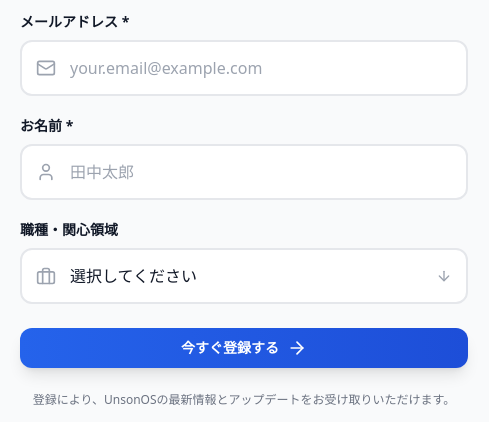
Test case: WaitlistForm Component › should disable submit button during form submission
Type "test@example.com" into the field labelled "メールアドレス *" at (244, 68), box [20,40,468,96]
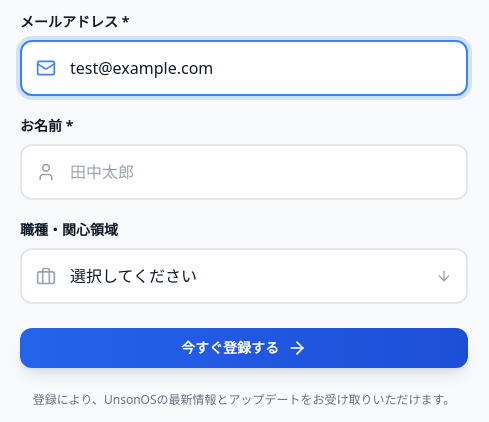
Type "テストユーザー" into the field labelled "お名前 *" at (244, 172), box [20,144,468,200]
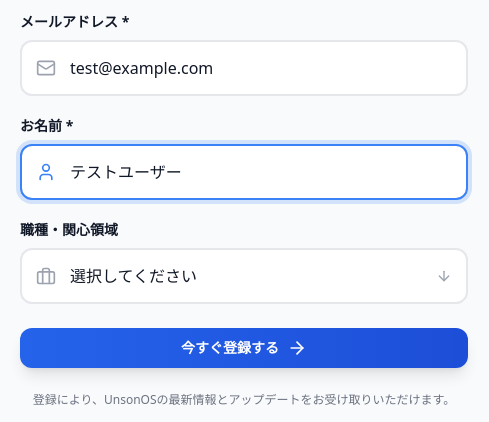
Click the button "今すぐ登録する" at (244, 348), box [20,328,468,368]
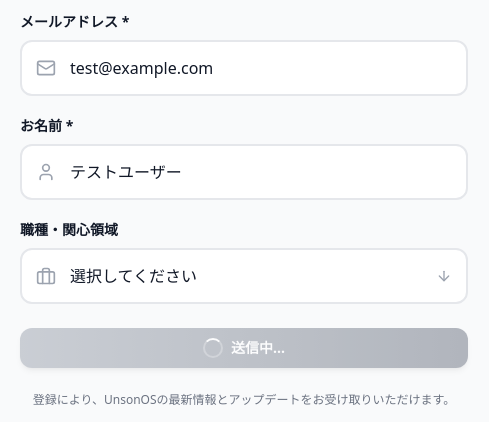
Result: the button named "登録" is disabled at [20,328,468,368]
Result: the text "送信中..." is shown at [203,338,285,358]
